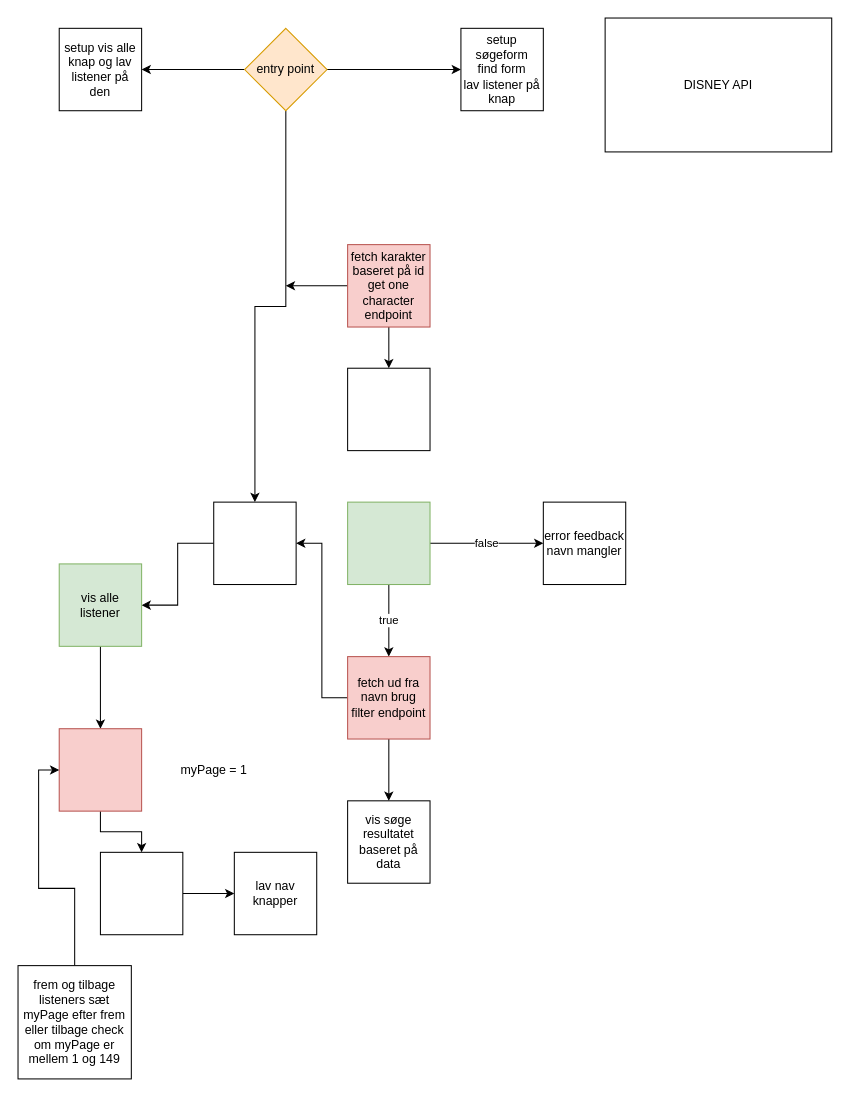
Image size: 850x1097. Some labels were removed from this diagram. Each missing label, with the box of its shape:
fetch data baseret på sidetal: (58, 728, 142, 811)
loading screen: (213, 501, 296, 585)
søg listener validere der er søge navn: (347, 501, 430, 585)
vis karakter baseret på data object: (347, 367, 430, 451)
vis side udfra data: (99, 851, 183, 935)
